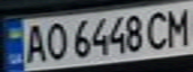4: (106, 12, 130, 55), (90, 15, 112, 56)
6: (69, 16, 93, 60)
8: (124, 11, 148, 53)
A: (21, 20, 48, 64)
C: (145, 8, 172, 50)
M: (163, 4, 193, 47)
O: (42, 19, 69, 62)
